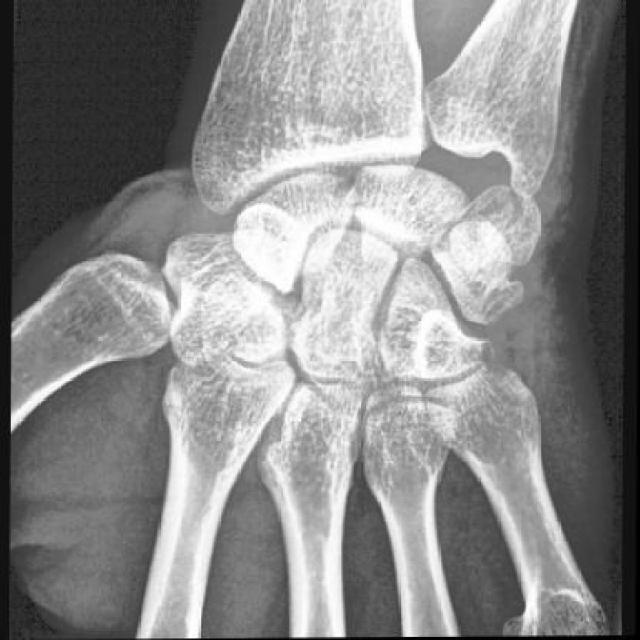Fracture: (442, 220, 530, 301)
